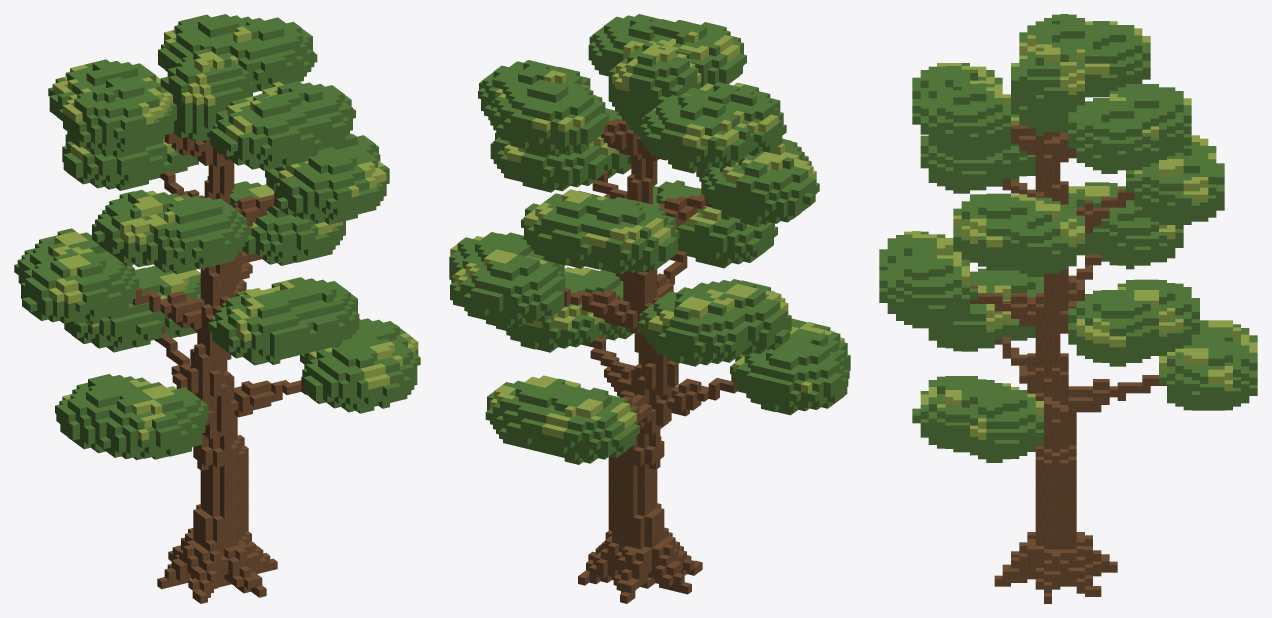
3 renders of one model, left to right at view 1: azimuth 30°, elevation 25°; view 2: azimuth 150°, elevation 25°; view 3: azimuth 270°, elevation 25°, orthographic.
Parts seen in each view (by area): view 1: 近远林冠代理组件; view 2: 近远林冠代理组件; view 3: 近远林冠代理组件.
Part boxes in pixels (x1,y1,x2,y2): 近远林冠代理组件: [14, 14, 420, 603]; 近远林冠代理组件: [449, 14, 850, 603]; 近远林冠代理组件: [879, 14, 1257, 603].
Bounding box in the file's own units: 9.6 × 14 × 9.2.
Materials: 3 (3 with a texture image).
